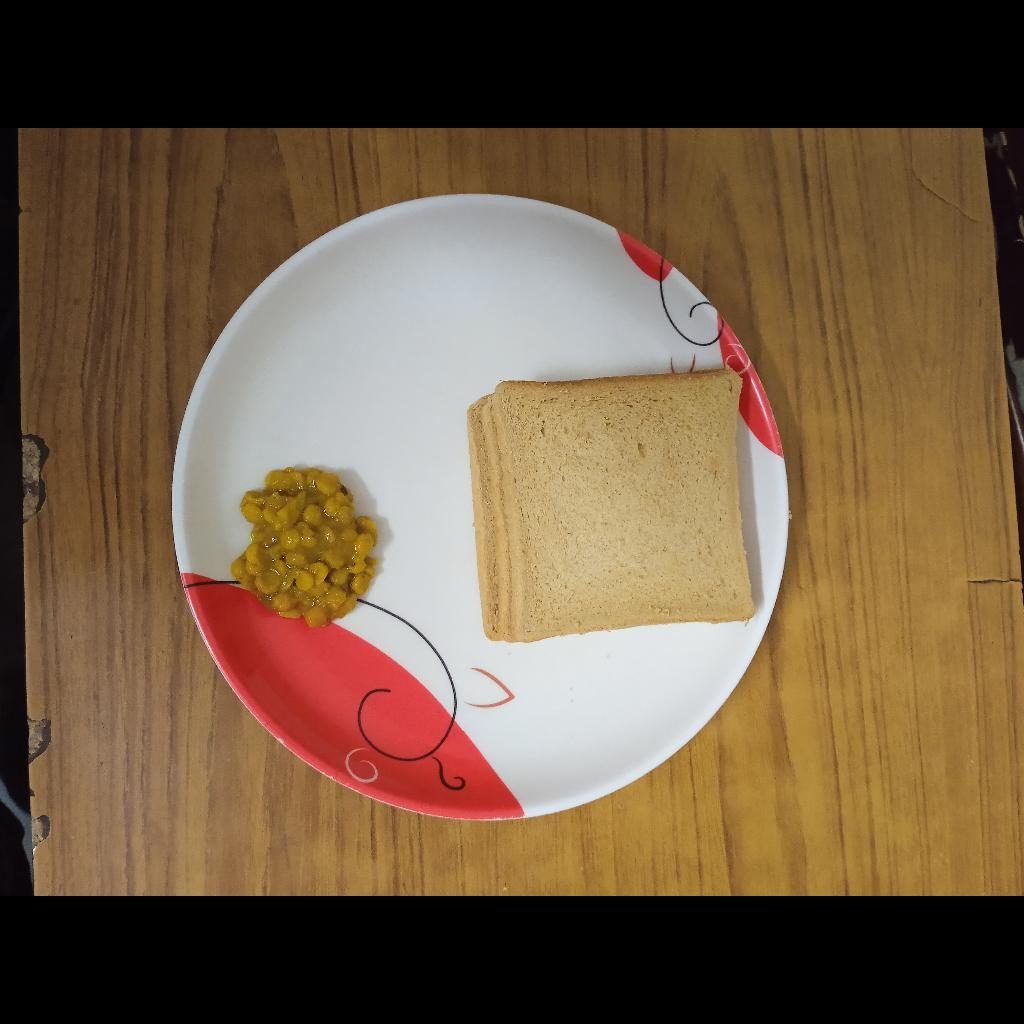bread: (466, 368, 756, 643)
daal: (230, 467, 380, 629)
